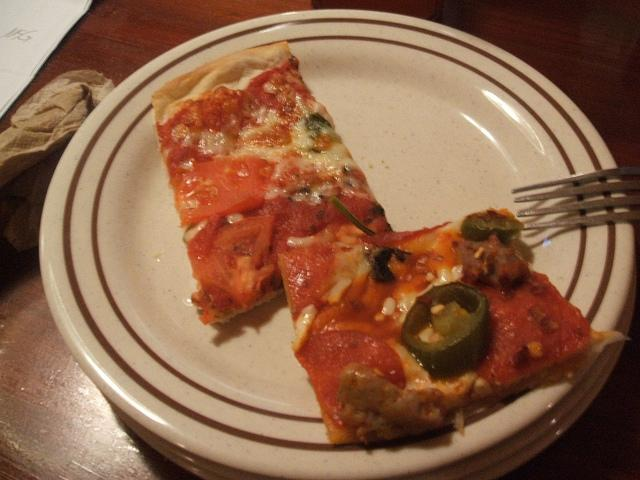tomato: (295, 332, 404, 428), (192, 214, 276, 309), (175, 156, 272, 228), (156, 106, 192, 154), (414, 275, 432, 292)
